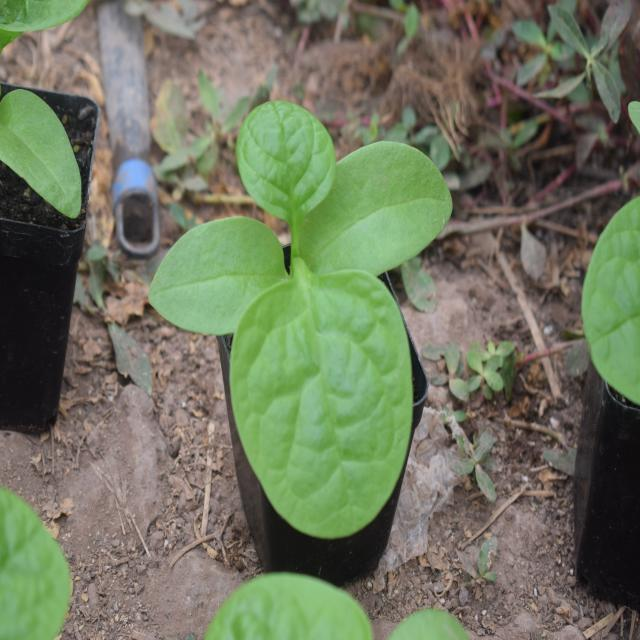Ceylon spinach: (162, 110, 446, 549)
